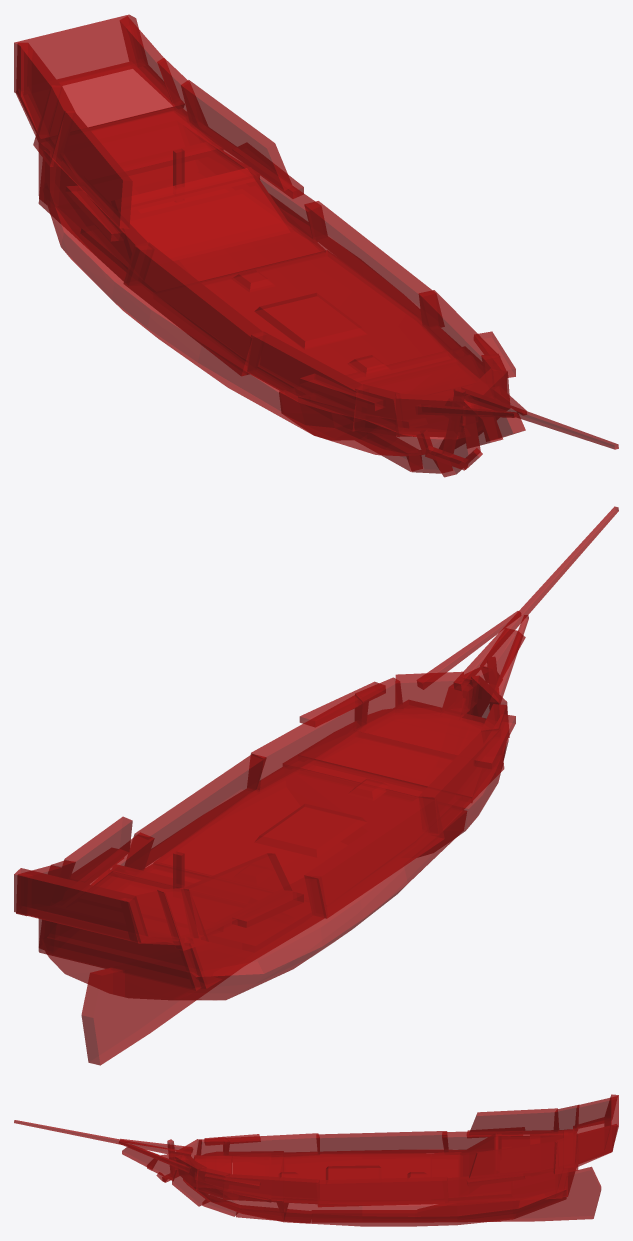
The model's file is SM_Veh_Veh_Boat_Large_01_Hull_Collision.fbx.
3 views of the same model, one above another, from view 1: azimuth 30°, elevation 25°; view 2: azimuth 150°, elevation 25°; view 3: azimuth 270°, elevation 25° (orthographic). The views are drawn at different scales.
Visible parts, largest first — view 1: SM_Veh_Veh_Boat_Large_01_Hull_Collision; view 2: SM_Veh_Veh_Boat_Large_01_Hull_Collision; view 3: SM_Veh_Veh_Boat_Large_01_Hull_Collision.
Boxes of the visible parts, <box> form: SM_Veh_Veh_Boat_Large_01_Hull_Collision: <box>14,14,618,477</box>; SM_Veh_Veh_Boat_Large_01_Hull_Collision: <box>14,506,618,1065</box>; SM_Veh_Veh_Boat_Large_01_Hull_Collision: <box>14,1094,618,1226</box>.
Size of the model in its own units: 754 by 673 by 3296.
